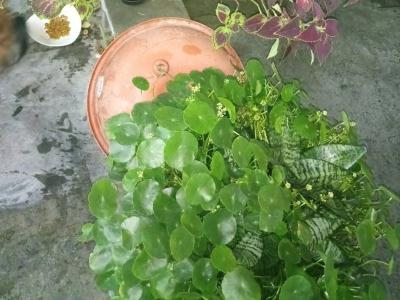bowl: (83, 13, 252, 165)
plate: (21, 1, 82, 49)
